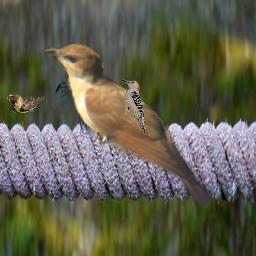Cuckoo: (43, 43, 210, 207)
Swallow: (6, 93, 46, 114)
Woodpecker: (121, 77, 148, 136)
